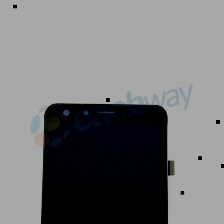phone: (30, 95, 180, 224)
